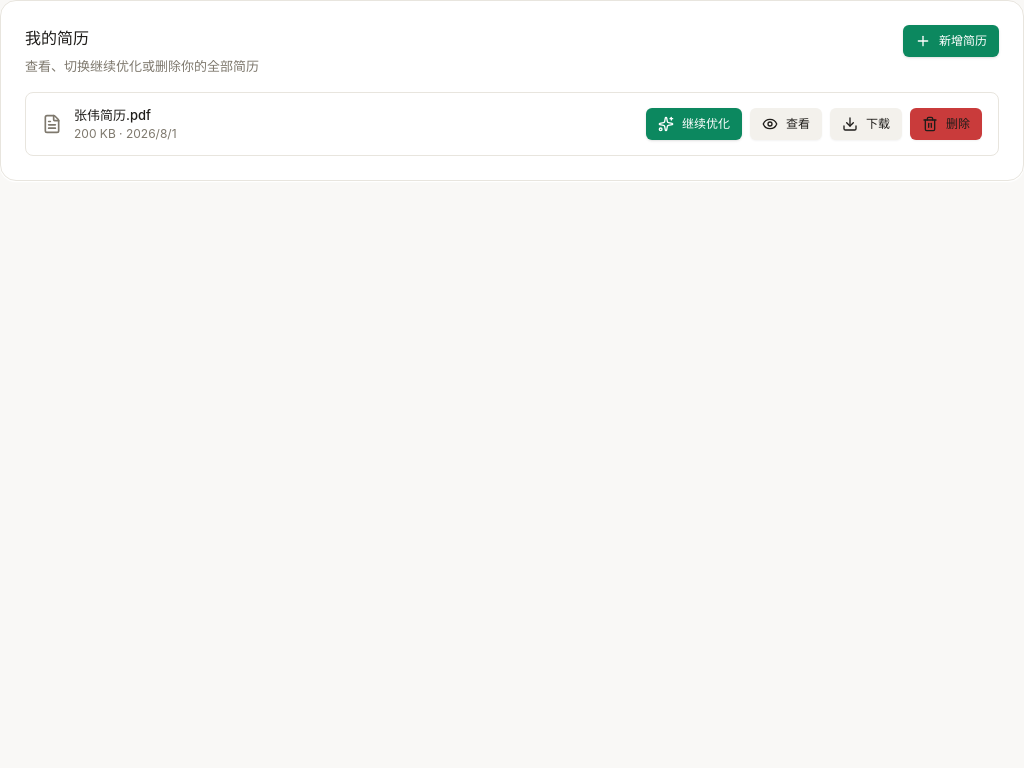
Scenario: ResumeCenter(我的简历 Tab,4.13) › 删除失败:错误 toast,弹窗保留
What coordinates should you click on to do the following:
click the button "删除"
I would click on:
 (946, 124)
Its box is [910,108,982,140].
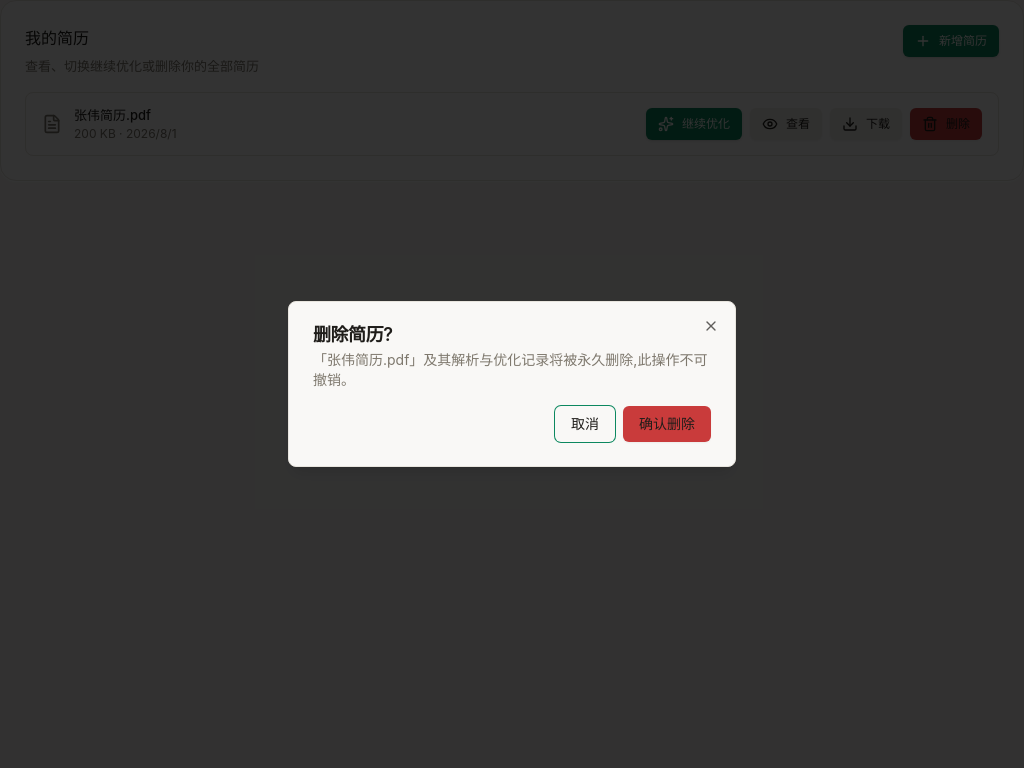
What coordinates should you click on to do the following:
click the button "确认删除"
I would click on:
 (667, 424)
Its box is [623,406,711,442].
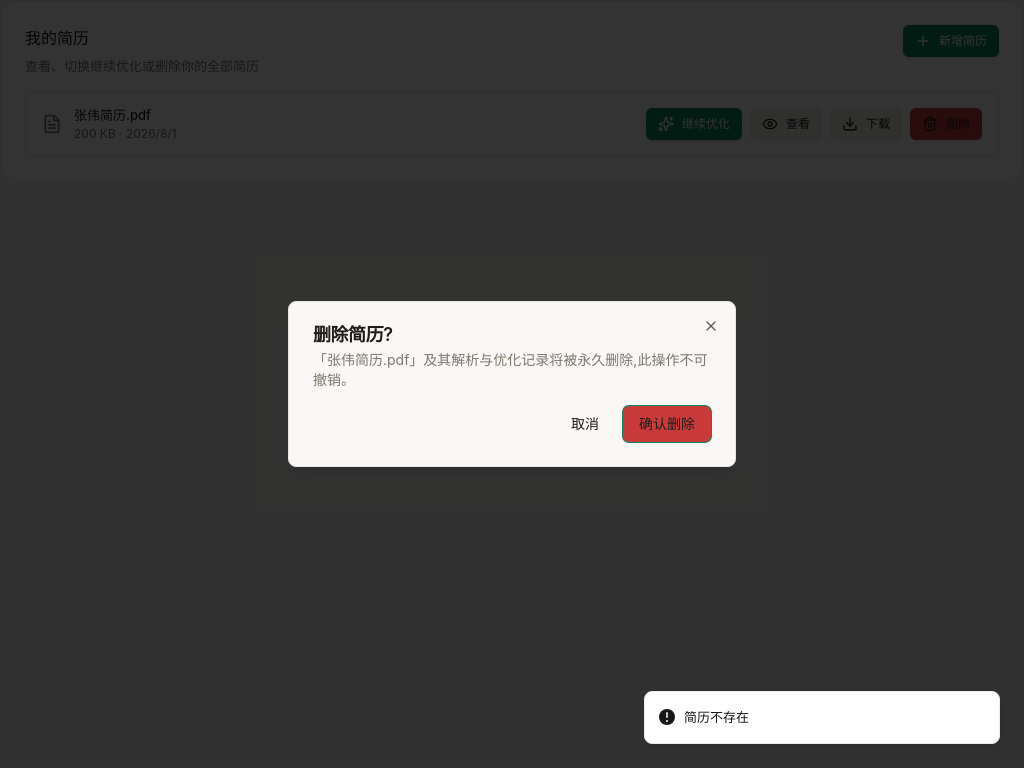
Result: the dialog is shown at [288,301,736,467]
Result: the text "简历不存在" is shown at [684,708,749,727]
